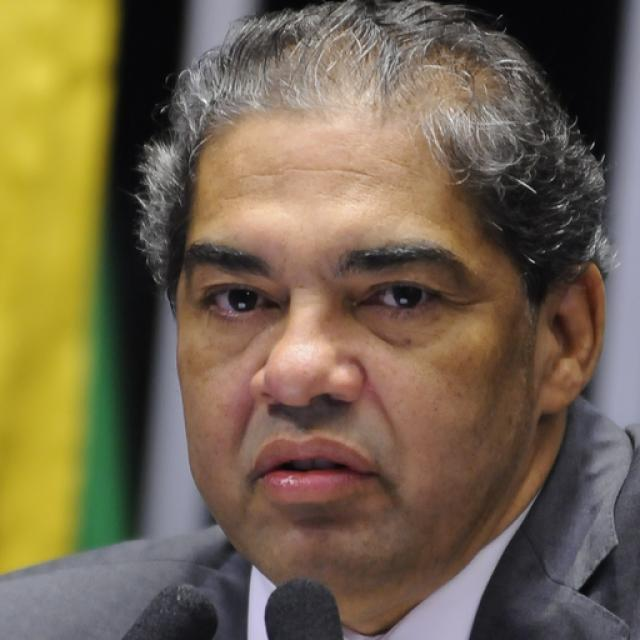disgust: (175, 110, 534, 628)
